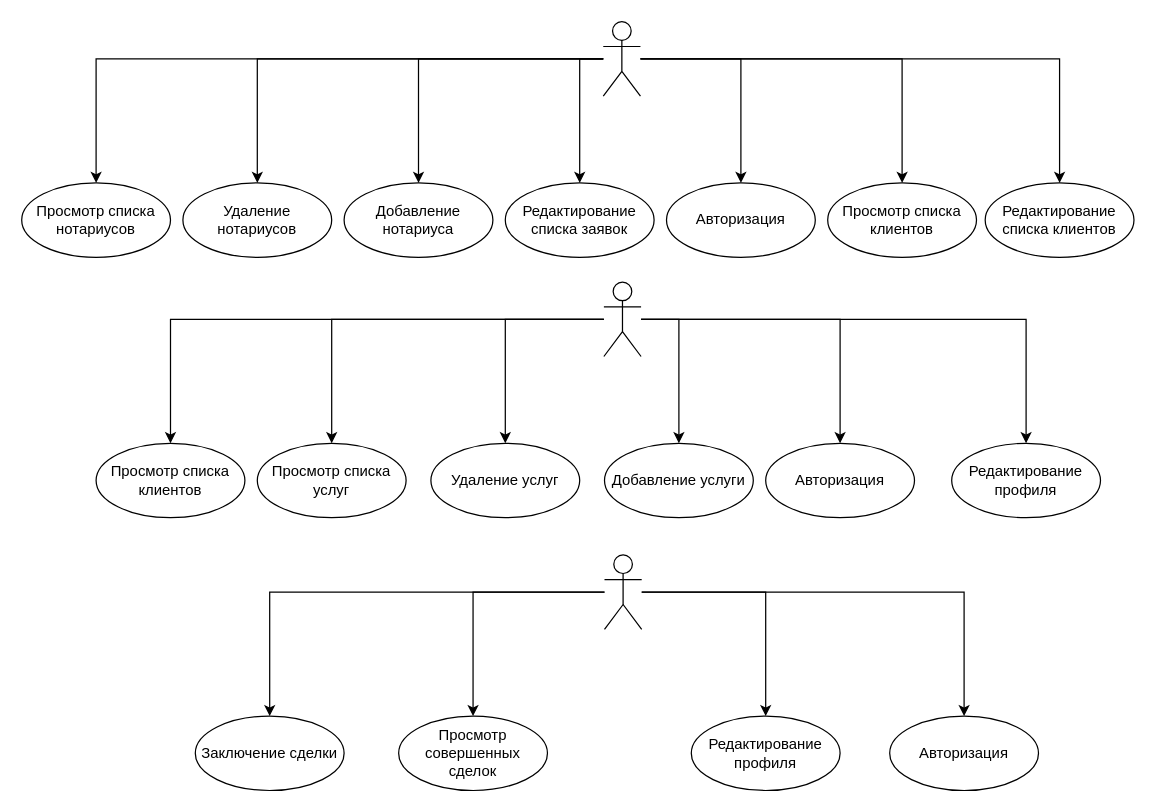
This 1156x812 diagram has some shape labels left out. The centre of each missing label's shape, as x and y in pixels:
"Администратор" goes at pixel 621 58.
"Клиент" goes at pixel 622 591.
"Нотариус" goes at pixel 622 318.
